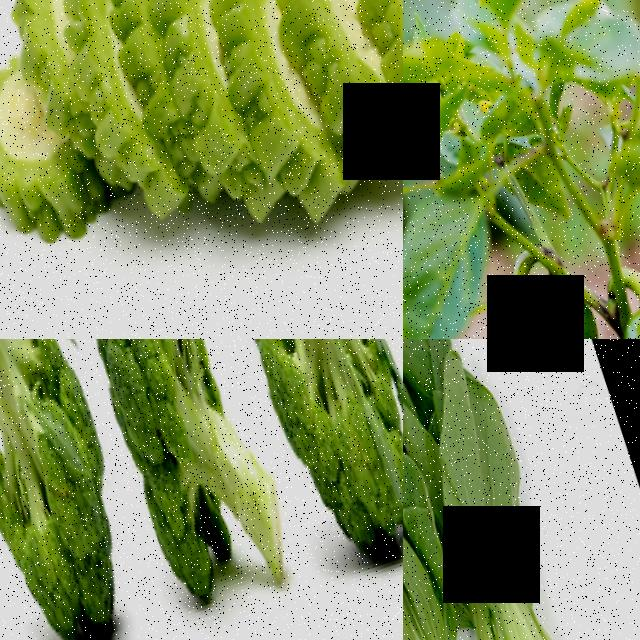bell pepper: (473, 289, 601, 339)
bitter gourd: (2, 0, 362, 305)
bok choy: (403, 372, 628, 640), (403, 452, 527, 640), (403, 339, 452, 640)
broccoli: (3, 339, 346, 640), (150, 339, 403, 564), (0, 339, 173, 640), (283, 339, 403, 543)
